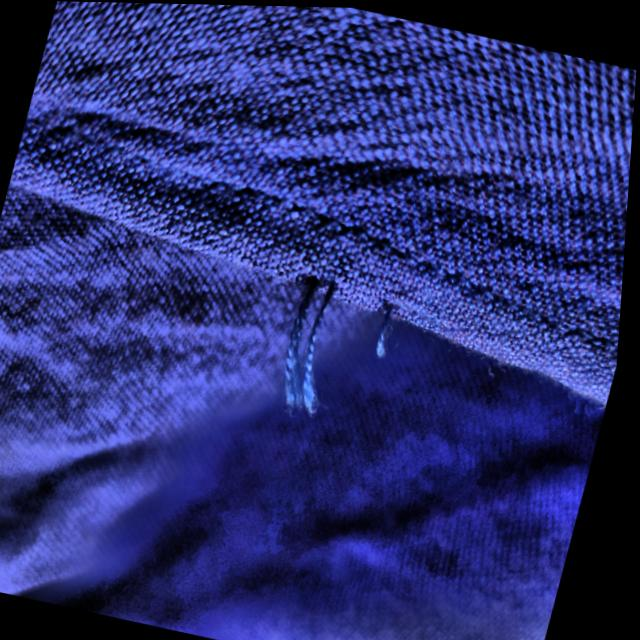Stitch: (184, 218, 443, 450)
